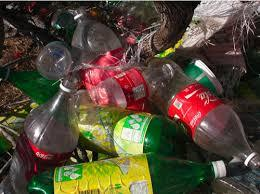Plastic bottle: (27, 34, 252, 191)
